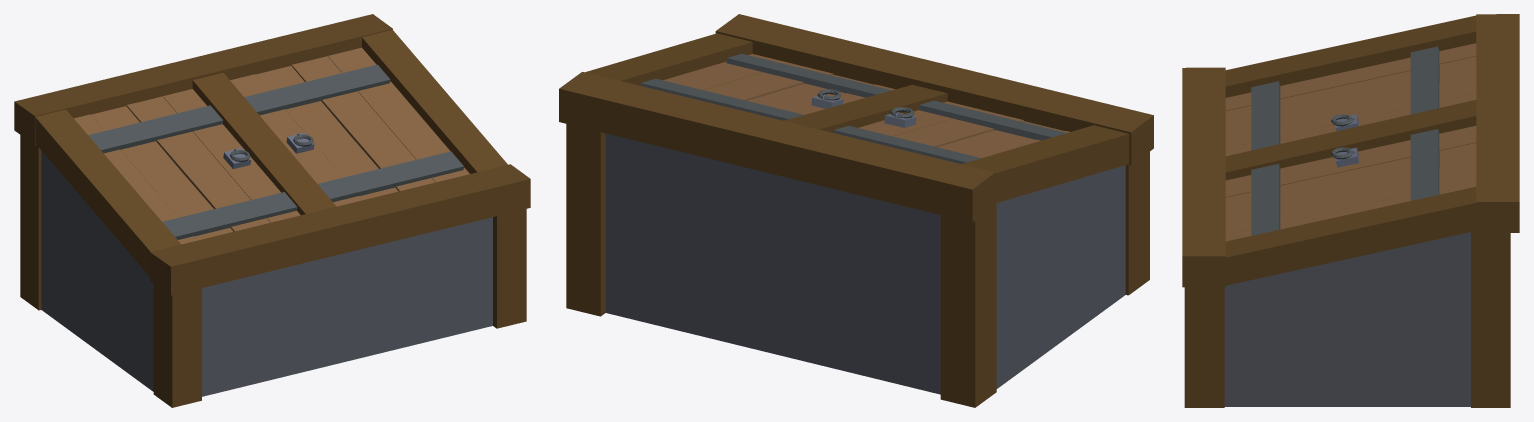
The model's file is Basement_01.fbx.
The picture shows the model from 3 angles, left to right: view 1: azimuth 30°, elevation 25°; view 2: azimuth 150°, elevation 25°; view 3: azimuth 270°, elevation 25°; orthographic projection. The views are drawn at different scales.
Parts seen in each view (by area): view 1: Basement_01; view 2: Basement_01; view 3: Basement_01.
Boxes of the visible parts, x1,y1,x2,y2 form: Basement_01: [14, 14, 530, 407]; Basement_01: [559, 14, 1153, 407]; Basement_01: [1182, 14, 1519, 407].
Bounding box in the file's own units: 1.49 × 0.7633 × 1.13.
